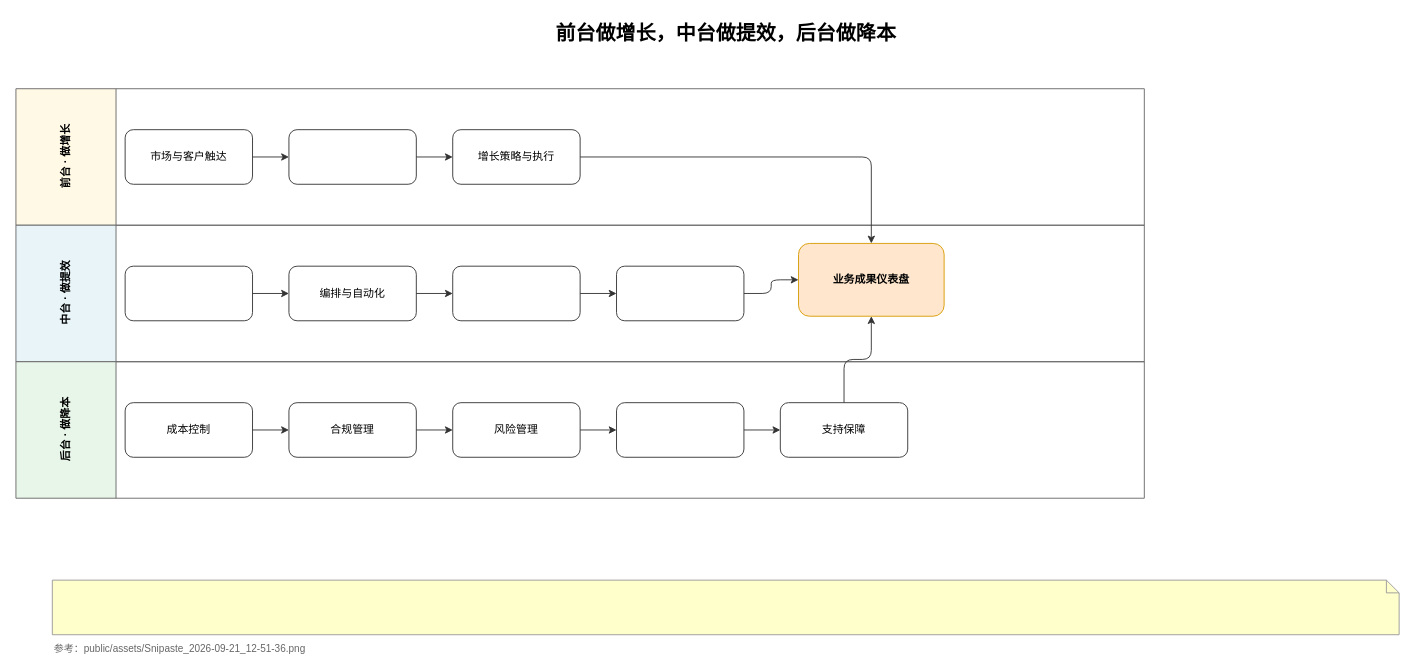
This 1415x672 diagram has some shape labels left out. The centre of each missing label's shape, as x and y in pixels:
"交付与验收" goes at (680,293).
"技术与数据" goes at (680,429).
"数据与分析" goes at (516,293).
"文档与流程" goes at (188,293).
"没有唯一答案 | 看企业实际情况 | 看客户真实需求 | 看公司的经营选择" goes at (725,607).
"需求与机会识别" goes at (352,156).
